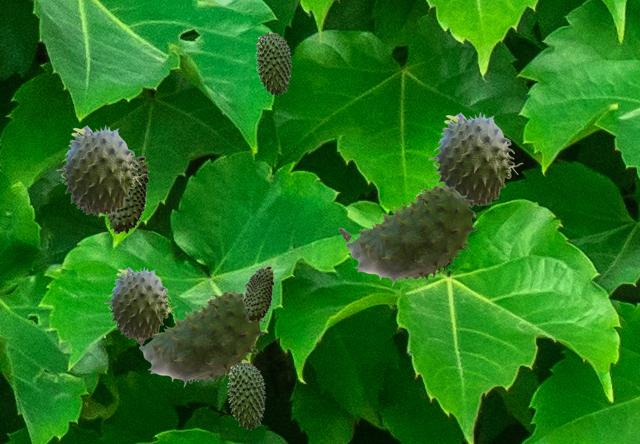guyabano: (338, 185, 476, 285), (136, 291, 264, 386), (428, 111, 522, 206), (56, 124, 145, 215), (104, 266, 176, 339), (106, 156, 148, 233), (227, 360, 265, 429), (255, 31, 291, 95), (243, 266, 273, 321)
